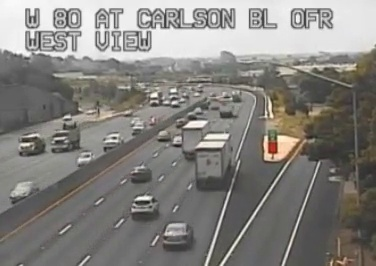car: (162, 222, 192, 247), (130, 196, 158, 216), (130, 167, 151, 181), (157, 130, 170, 141), (173, 136, 184, 145)
truck: (196, 132, 231, 190), (181, 121, 210, 158)
